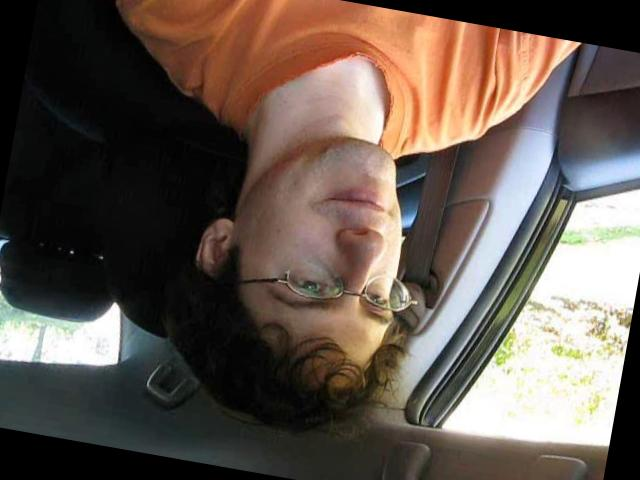eye_open: (283, 268, 334, 300), (359, 286, 389, 311)
face: (246, 122, 424, 348)
